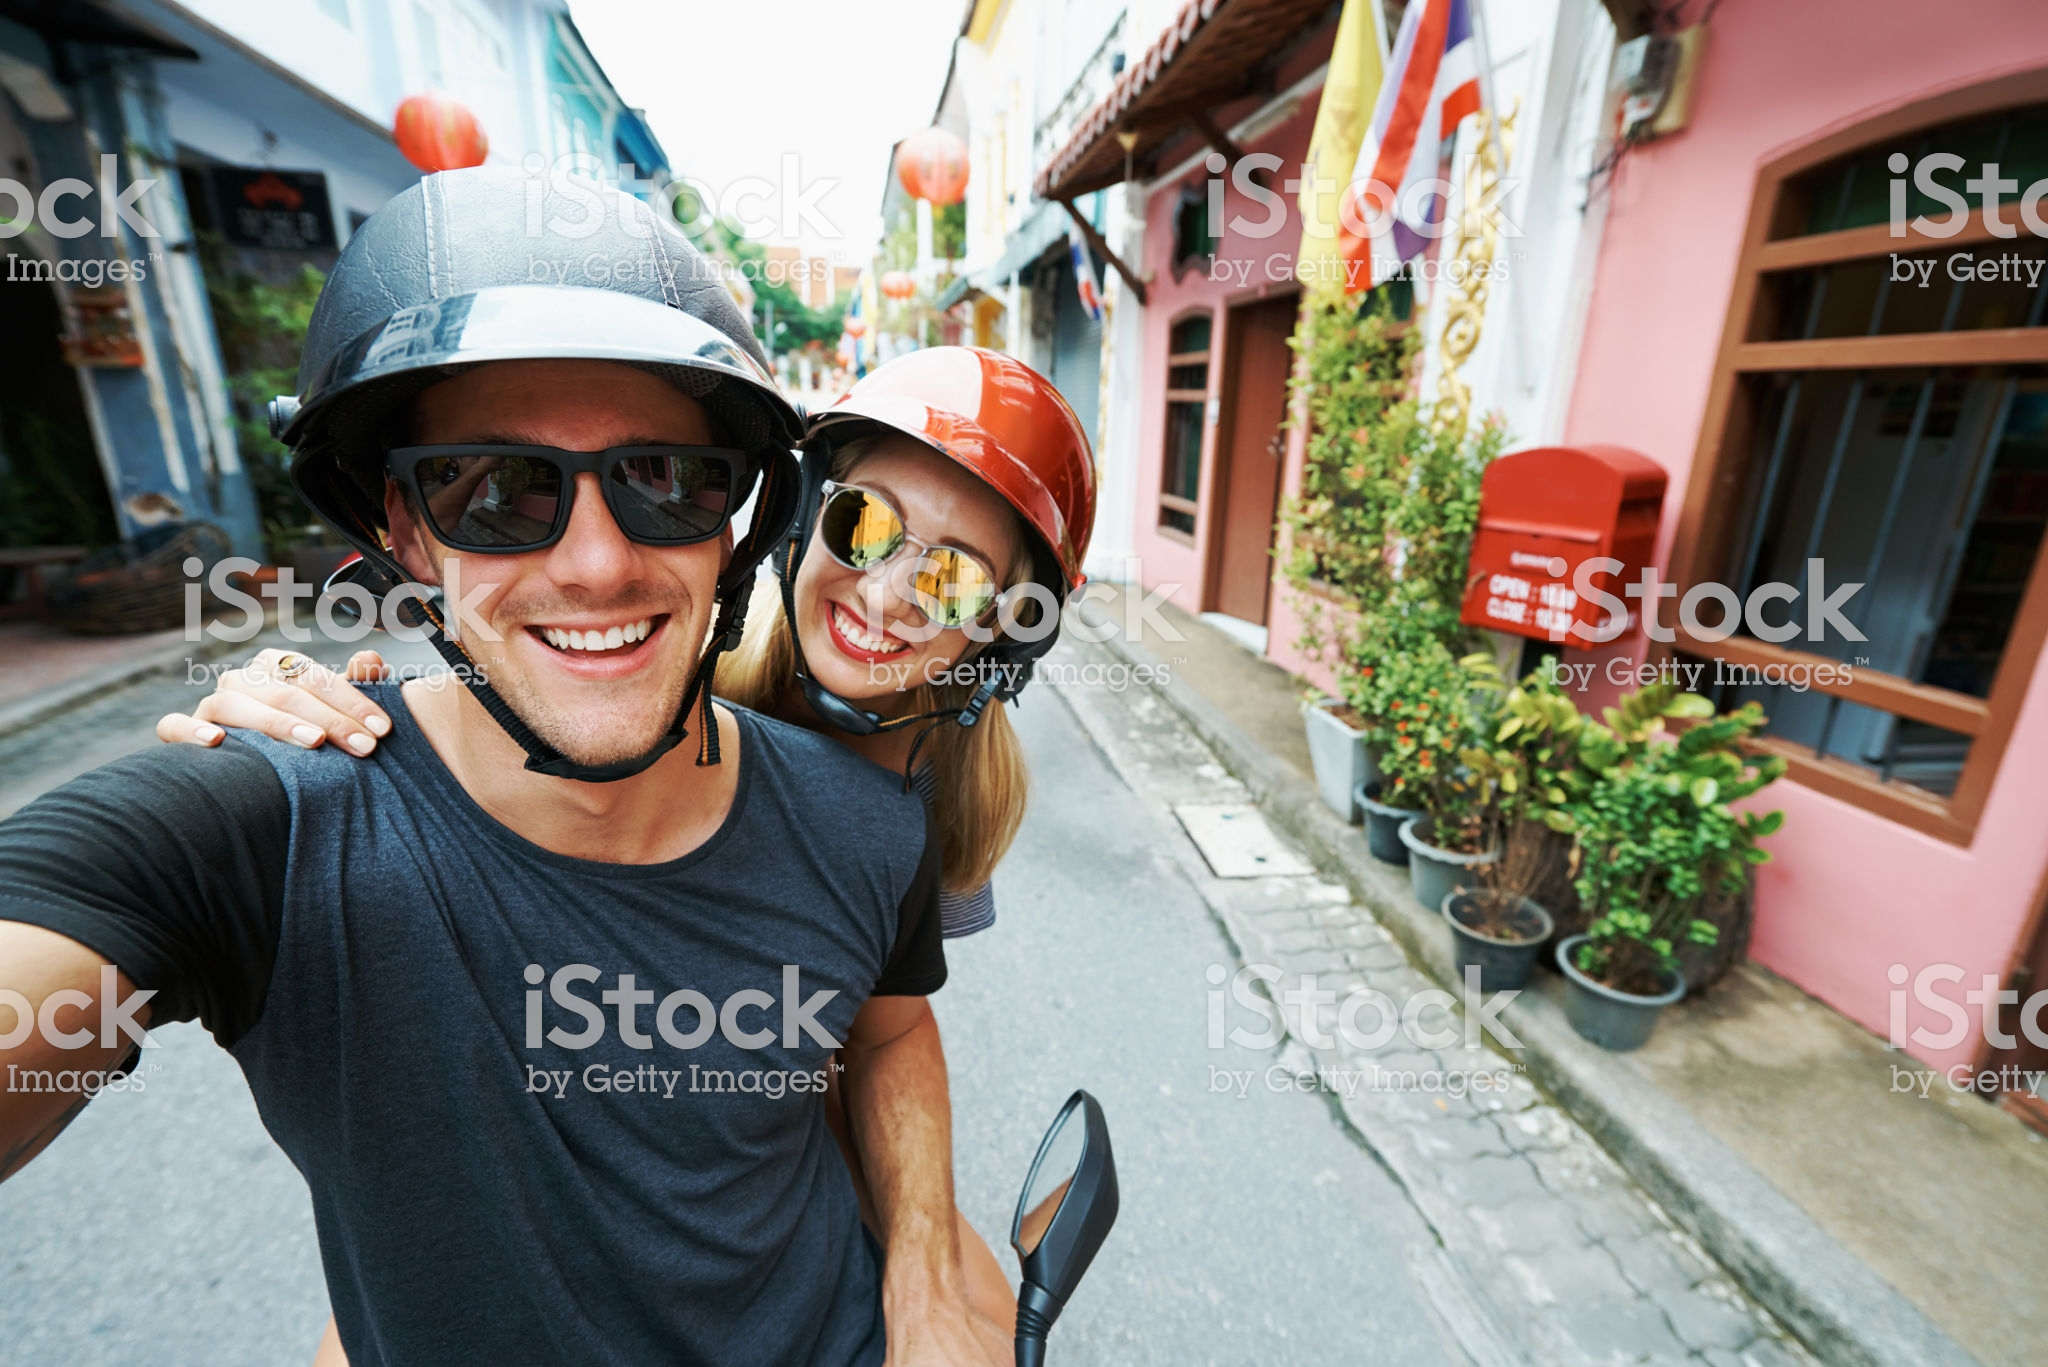helmet: (297, 159, 785, 470), (820, 334, 1127, 549)
